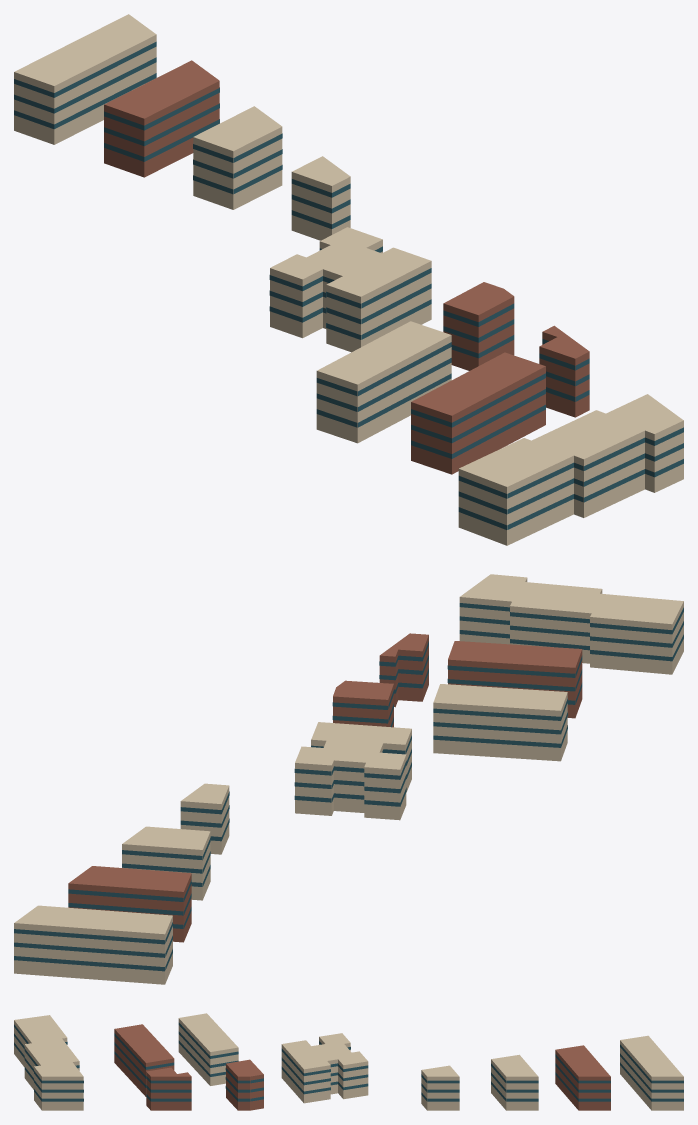
The model's file is city_10_-5.glb.
The picture shows the model from 3 angles, top to bottom: view 1: azimuth 30°, elevation 25°; view 2: azimuth 150°, elevation 25°; view 3: azimuth 270°, elevation 25°; orthographic projection. The views are drawn at different scales.
Visible parts, largest first — view 1: city_10_-5; view 2: city_10_-5; view 3: city_10_-5.
Boxes of the visible parts, x1,y1,x2,y2 form: city_10_-5: (14, 14, 683, 545); city_10_-5: (14, 574, 683, 984); city_10_-5: (14, 1013, 683, 1110).
Size of the model in its own units: 59.92 by 15 by 268.
